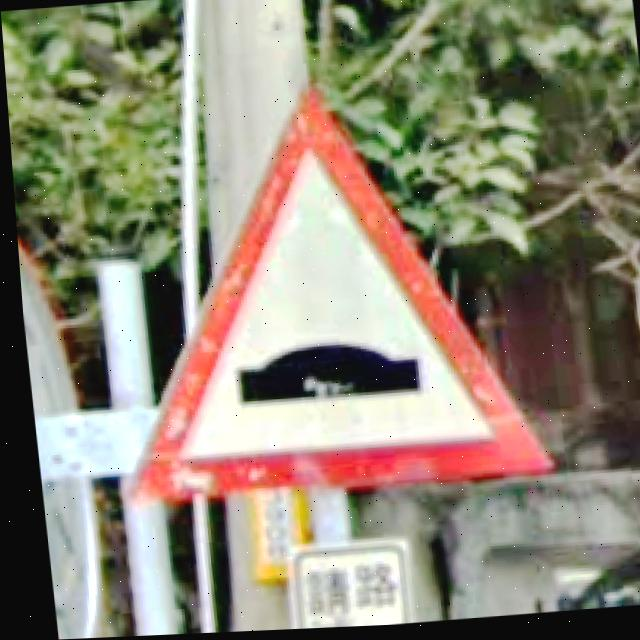hump: (125, 92, 546, 500)
